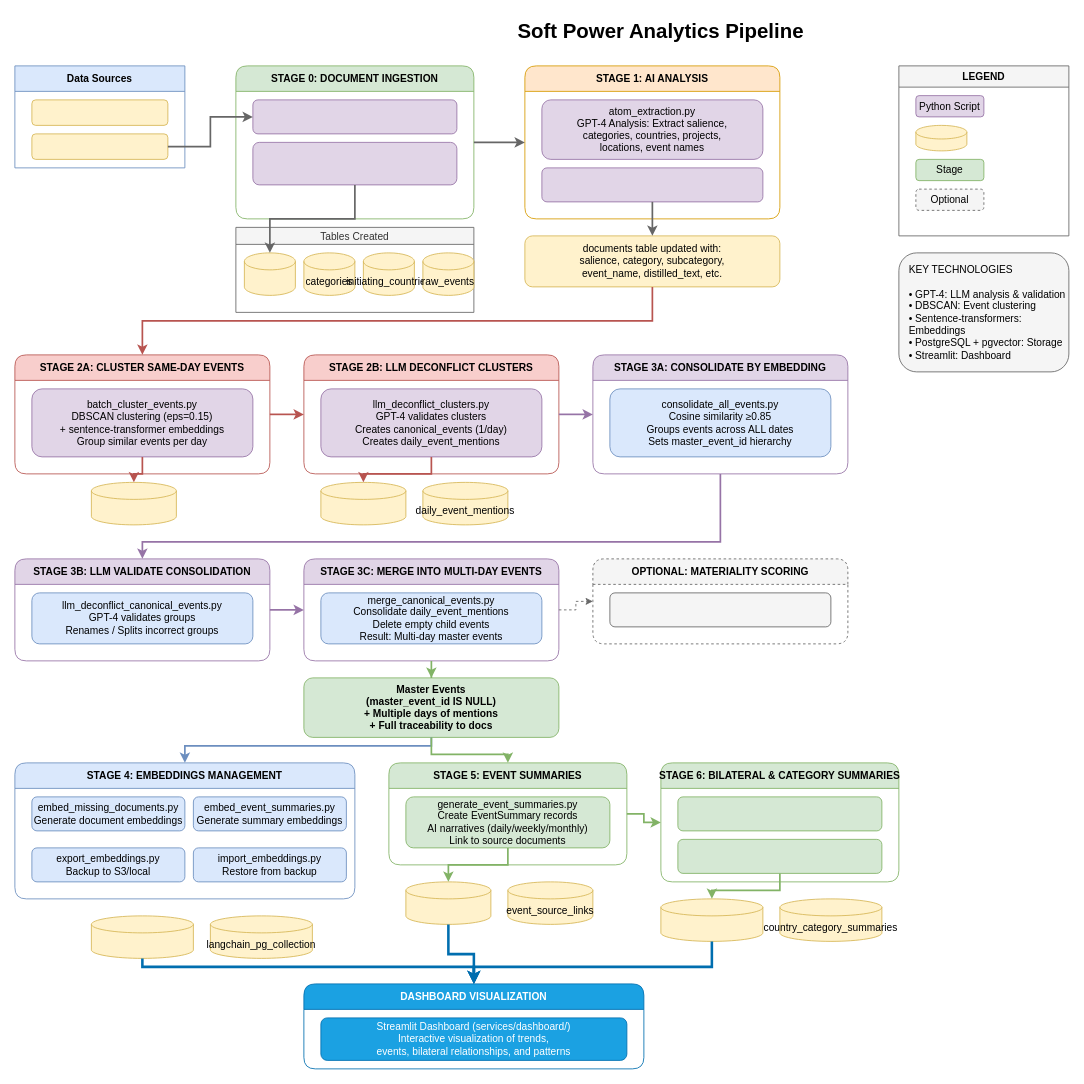
This 1084x1084 diagram has some shape labels left out. Each missing label, with the centre of its shape:
"atom.py Clean CSV from ATOM feed" goes at (354,116).
"bilateral_relationship_summaries" goes at (711,919).
"canonical_events" goes at (363,503).
"DB Table" goes at (941,138).
"documents" goes at (269,273).
"dsr.py Load JSON, create Documents Flatten to normalized tables" goes at (354,163).
"event_clusters" goes at (133,503).
"event_summaries" goes at (448,902).
"generate_bilateral_summaries.py Country pair relationship analysis" goes at (779,813).
"generate_country_category_summaries.py Category-specific analysis" goes at (779,856).
"langchain_pg_embedding" goes at (142,936).
"Local Files" goes at (99,146).
"phase0_event_analysis.py Statistical analysis of raw events" goes at (652,184).
"S3 Bucket (JSON/CSV)" goes at (99,112).
"score_canonical_event_materiality.py Score 1-10 (symbolic to tangible)" goes at (720,609).
